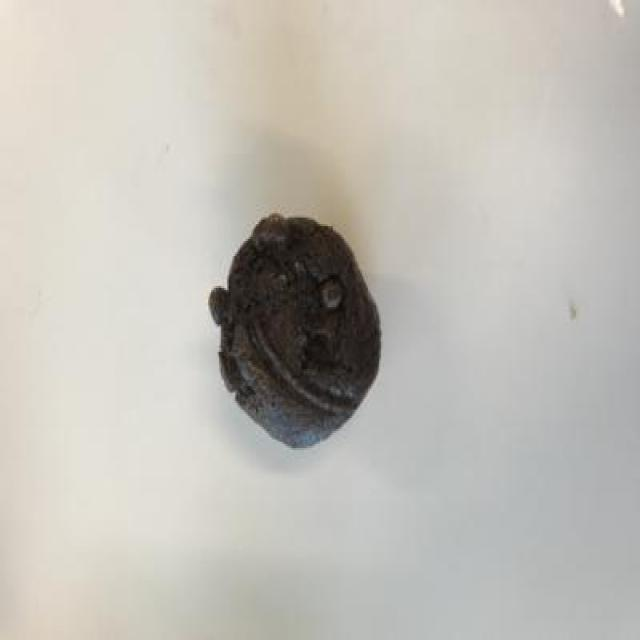compost: (188, 208, 399, 474)
